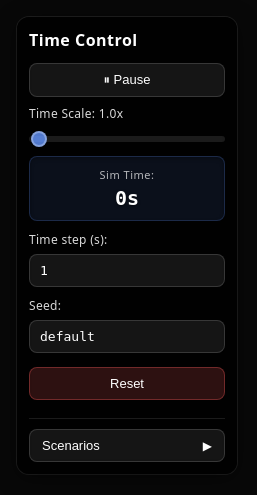
TimeControlPanel integration › play/pause button › toggles simulation when clicked
Click the button "⏸ Pause" at (127, 80), box [29, 63, 225, 97]
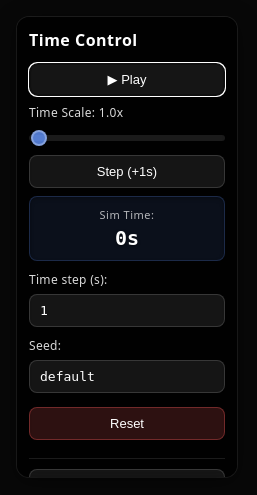
Expected: the button "▶ Play" is shown, [29, 63, 225, 96]
